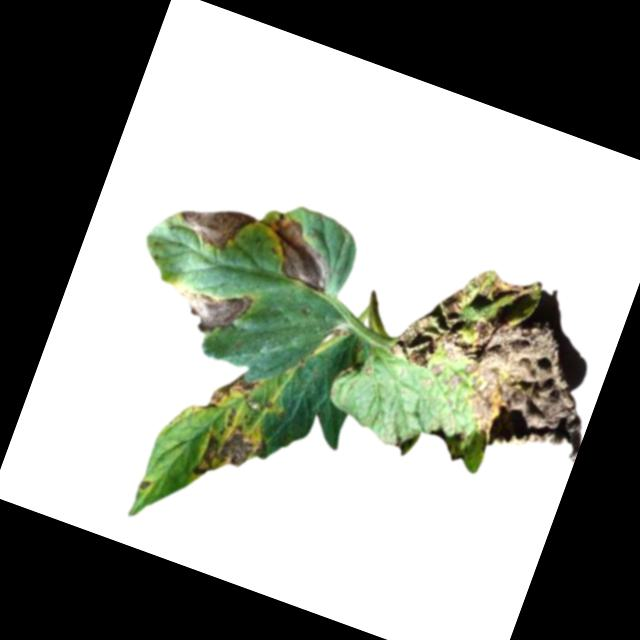Early_blight: (368, 241, 628, 480), (190, 409, 276, 500), (253, 212, 343, 294), (165, 271, 255, 347), (173, 193, 258, 260), (204, 366, 262, 422), (136, 477, 153, 495)
